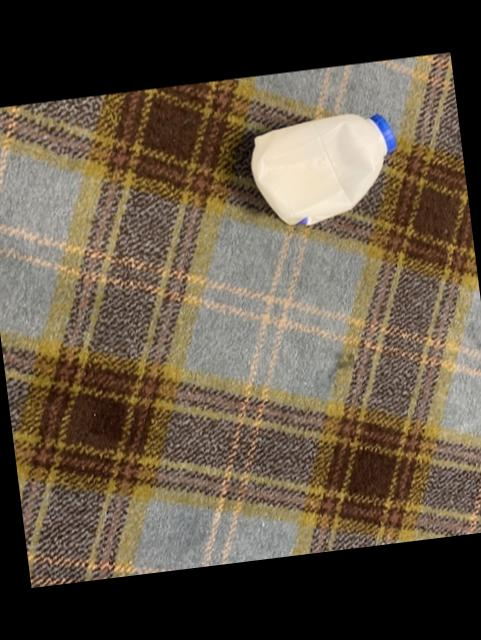plastic: (248, 116, 393, 227)
